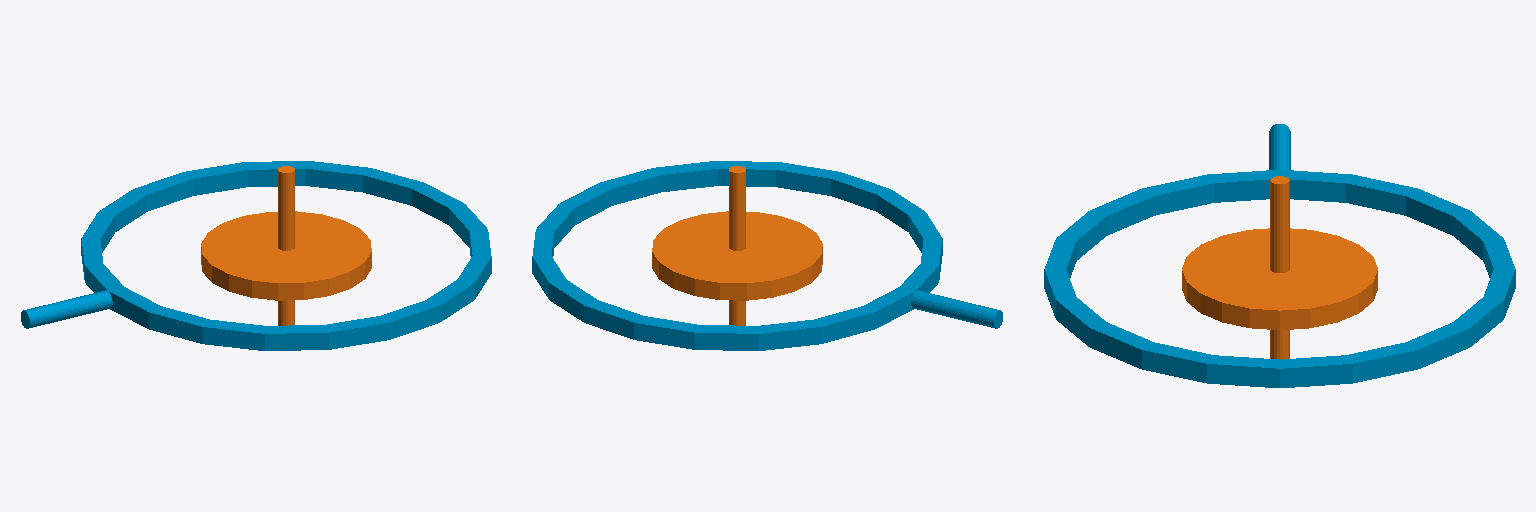
The robot description file, URDF, robot "gyro":
<?xml version="1.0" ?>
<robot name="gyro">

    <material name="industrial">
        <color rgba="0.1137254 0.345098039 0.654901960 1" />
    </material>
    
    <material name="arches">
        <color rgba="0.0 0.623529411 0.831372 1" />
    </material>
    
    <material name = "heritage">
        <color rgba = "0.96078431 0.50980392 0.11764706 1" />
    </material>
    
    <link name="core">
        <visual>
            <origin rpy="0 0 0" xyz="0 0 0"/>
            <geometry>
                <mesh filename="gyro_core.stl" scale="0.1 0.1 0.1"/>
            </geometry>
            <material name = "heritage"/>
        </visual>
        <inertial>
            <origin rpy="0 0 0" xyz="0 0 0"/>
            <mass value="1.0"/>
            <inertia ixx="0.134" ixy="0" ixz="0" iyy="0.134" iyz="0" izz="0.101"/>
        </inertial>
    </link>
        
    <link name="r1" concave="yes">
        <visual>
            <origin rpy="0 0 0" xyz="0 0 0"/>
            <geometry>
                <mesh filename="gyro_ring.stl" scale="0.1 0.1 0.1"/>
            </geometry>
            <material name = "arches"/>
        </visual>
        <inertial>
            <origin rpy="0 0 0" xyz="0 0 0"/>
            <mass value="0.001"/>
            <inertia ixx="0.0018" ixy="0" ixz="0" iyy="0.0018" iyz="0" izz="0.0036"/>
        </inertial>
    </link>

    <link name="r2" concave="yes">
        <visual>
            <origin rpy="0 0 0" xyz="0 0 0"/>
            <geometry>
                <mesh filename="gyro_ring.stl" scale="0.14 0.14 0.14"/>
            </geometry>
            <material name = "arches"/>
        </visual>
        <inertial>
            <origin rpy="0 0 0" xyz="0 0 0"/>
            <mass value="0.014"/>
            <inertia ixx="0.0050" ixy="0" ixz="0" iyy="0.0050" iyz="0" izz="0.0099"/>
        </inertial>
    </link>

    <link name="outer" concave="yes">
        <visual>
            <origin rpy="0 1.571 0" xyz="0 0 0"/>
            <geometry>
                <mesh filename="gyro_outer.stl" scale="0.1 0.1 0.1"/>
            </geometry>
            <material name = "arches"/>
        </visual>
        <inertial>
            <origin rpy="0 1.571 0" xyz="0 0 0"/>
            <mass value="0.020"/>
            <inertia ixx="0.0233" ixy="0" ixz="0" iyy="0.0117" iyz="0" izz="0.0117"/>
        </inertial>
    </link>

    <link name="base">
        <visual>
            <origin rpy="0 0 0" xyz="0 0 0"/>
            <geometry>
                <mesh filename="cylinder.stl" scale="1 1 0.1"/>
            </geometry>
            <material name = "industrial"/>
        </visual>
        <inertial>
            <origin rpy="0 0 0" xyz="0 0 0"/>
            <mass value="0"/>
            <inertia ixx="0" ixy="0" ixz="0" iyy="0" iyz="0" izz="0"/>
        </inertial>
    </link>

    <joint name="base_to_outer" type="continuous">
        <parent link = "base" />
        <child link = "outer" />
        <origin rpy="0 0 0" xyz = "0 0 1.6" />
        <axis xyz = "0 0 1" />
    </joint>

    <joint name="outer_to_r2" type="continuous">
        <parent link = "outer" />
        <child link = "r2" />
        <origin rpy="0 0 0" xyz = "0 0 0" />
        <axis xyz = "0 1 0" />
    </joint>

    <joint name="r2_to_r1" type="continuous">
        <parent link = "r2" />
        <child link = "r1" />
        <origin rpy="0 1.571 1.571" xyz = "0 0 0" />
        <axis xyz = "0 1 0" />
    </joint>

    <joint name="r1_to_core" type="continuous">
        <parent link = "r1" />
        <child link = "core" />
        <origin rpy="0 1.571 0" xyz = "0 0 0" />
        <axis xyz = "0 0 1" />
    </joint>

</robot>

--- Facts derived from the render (not from the file) ---
The picture shows the robot from 3 angles, left to right: view 1: azimuth 30°, elevation 25°; view 2: azimuth 150°, elevation 25°; view 3: azimuth 270°, elevation 25°; orthographic projection.
Model gyro with 5 links and 4 joints (4 continuous), rooted at base, posed all joints at 0.
Visible links, largest first — view 1: outer, core; view 2: outer, core; view 3: outer, core.
Boxes of the visible links, x1,y1,x2,y2 form: outer: (21, 161, 491, 350); core: (201, 166, 371, 325); outer: (532, 161, 1002, 350); core: (652, 166, 822, 325); outer: (1044, 124, 1515, 387); core: (1182, 176, 1377, 359).
Bounding box of the posed robot: 2.66 × 2.16 × 1 m (x, y, z).
2 mesh visuals loaded from 4 distinct referenced files (2 binary STL); not drawn: 3 (reference not matched to a file when rendering).